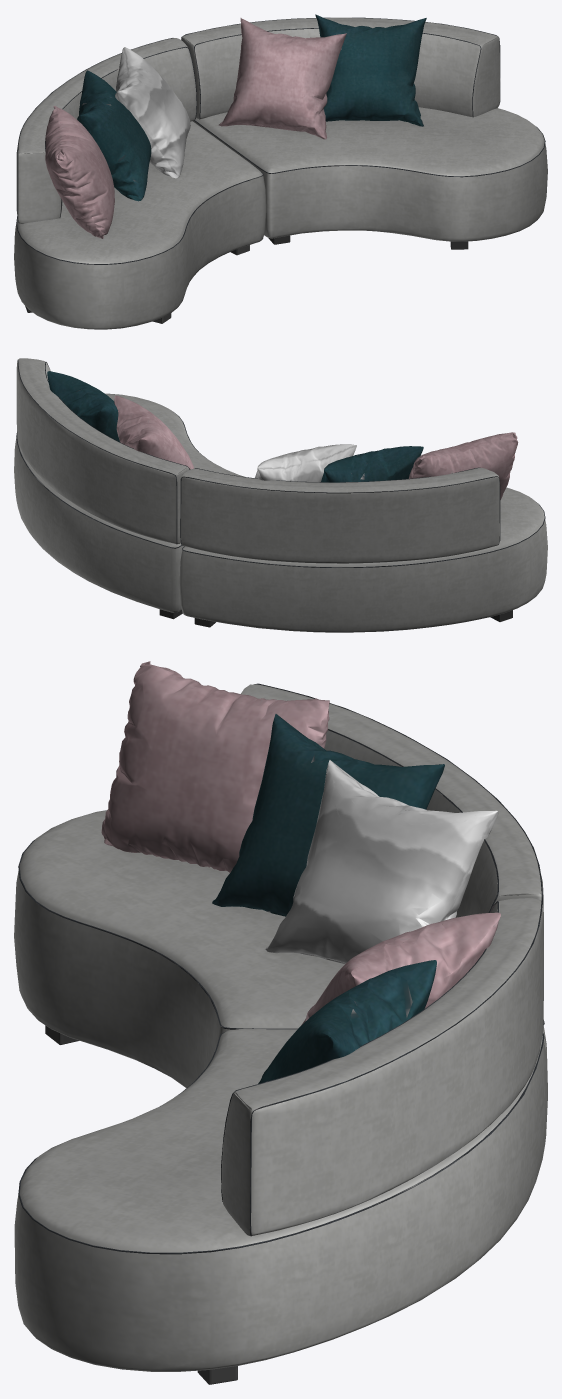
File: raw_model.obj
3 views of the same model, one above another, from view 1: azimuth 30°, elevation 25°; view 2: azimuth 150°, elevation 25°; view 3: azimuth 270°, elevation 25° (orthographic). The views are drawn at different scales.
Parts seen in each view (by area): view 1: solid_006, solid_004, solid_002, solid_005, solid_003, solid_001; view 2: solid_006, solid_004, solid_002, solid_003, solid_005, solid_001; view 3: solid_006, solid_004, solid_005, solid_002, solid_003.
Part boxes in pixels (box(x1,y1,x2,y2)): solid_006: box(14, 17, 547, 329); solid_004: box(45, 18, 346, 238); solid_002: box(77, 14, 426, 201); solid_005: box(115, 47, 190, 178); solid_003: box(16, 17, 545, 264); solid_001: box(25, 235, 468, 323); solid_006: box(14, 358, 547, 632); solid_004: box(114, 395, 518, 499); solid_002: box(47, 371, 423, 482); solid_003: box(16, 360, 545, 567); solid_005: box(255, 444, 356, 481); solid_001: box(159, 609, 512, 627); solid_006: box(14, 684, 547, 1371); solid_004: box(101, 661, 500, 1025); solid_005: box(265, 760, 498, 964); solid_002: box(212, 714, 444, 1083); solid_003: box(18, 683, 544, 1254).
Size of the model in its own units: 2.69 by 0.8572 by 1.35.
Materials: 1 (1 with a texture image).
